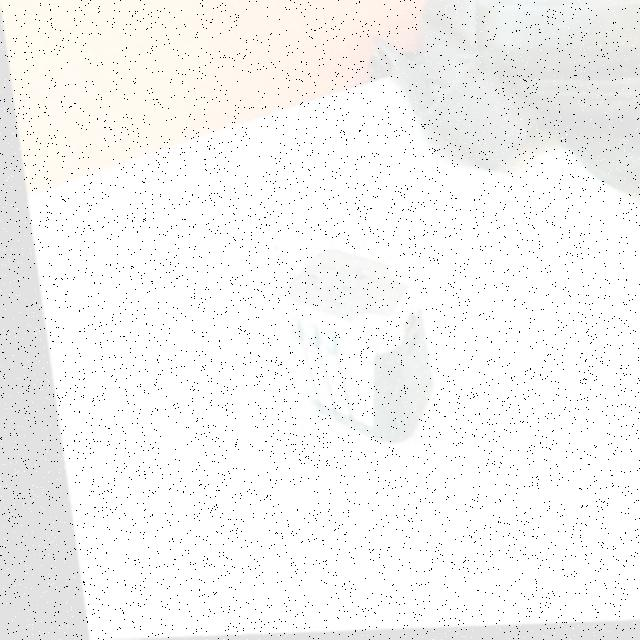adapter: (265, 244, 428, 448)
